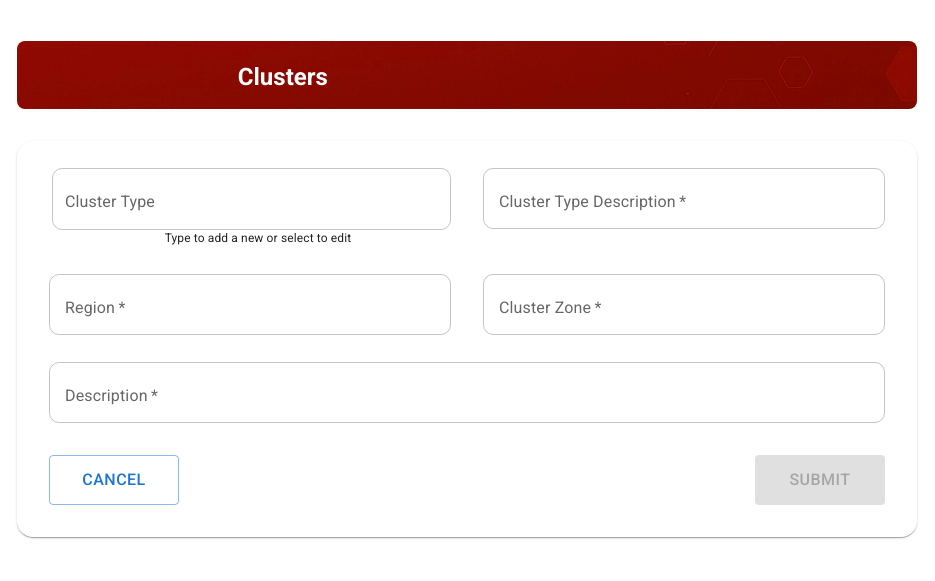
it: ClustersPage › renders cluster data in the form when a cluster is selected
The image size is (935, 581).
Type "Cluster Type 1" into the dropdown.
click(237, 211); type("Cluster Type 1")  # box [61, 192, 412, 230]
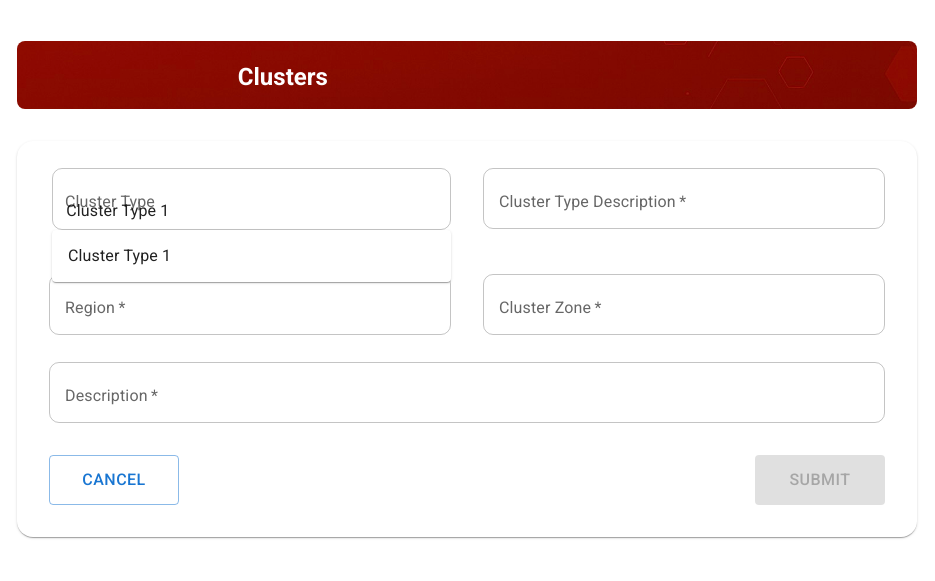
Click the option "Cluster Type 1".
click(120, 256)  # box [68, 246, 171, 265]
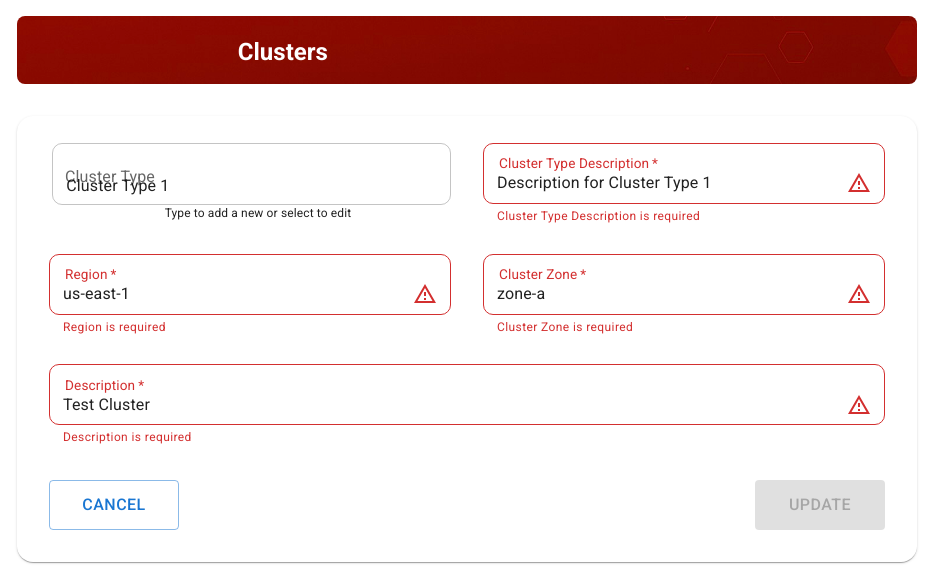
Expected: the field showing "us-east-1" is shown, [49, 266, 413, 322]
Expected: the field showing "zone-a" is shown, [483, 266, 847, 322]
Expected: the field showing "Test Cluster" is shown, [49, 377, 847, 433]
